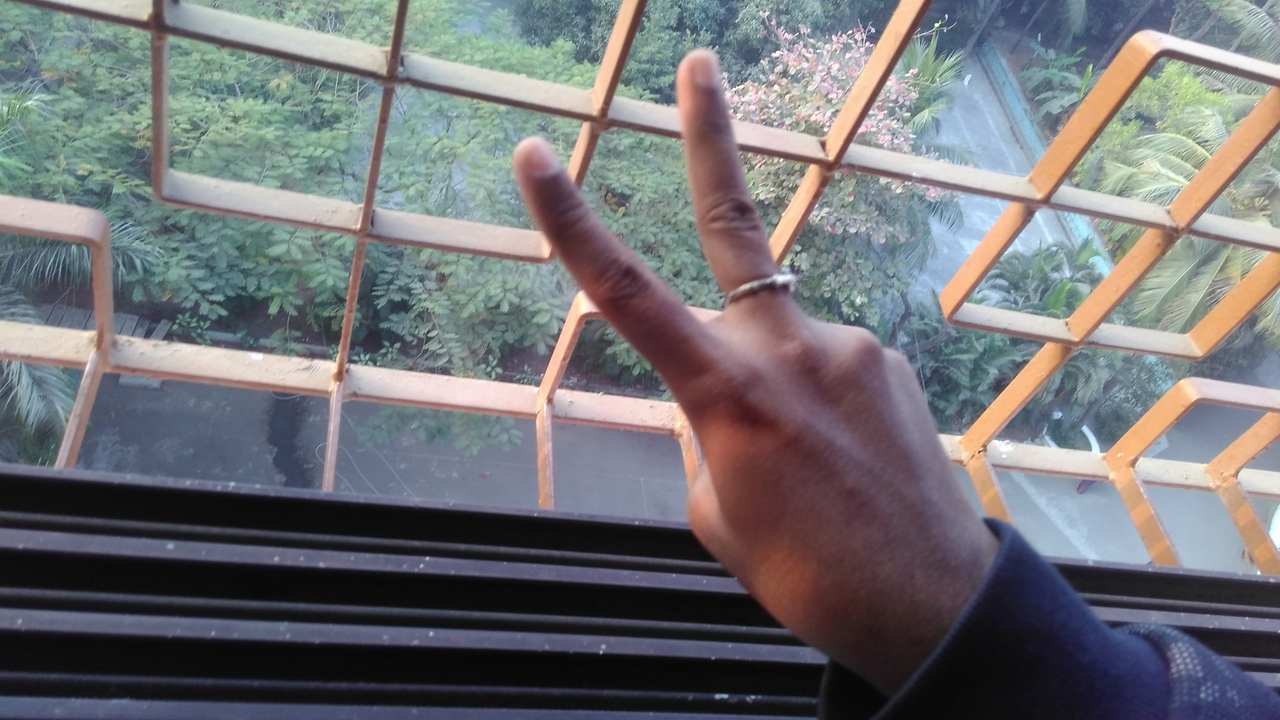fingertip: (504, 130, 566, 186), (672, 46, 726, 102)
